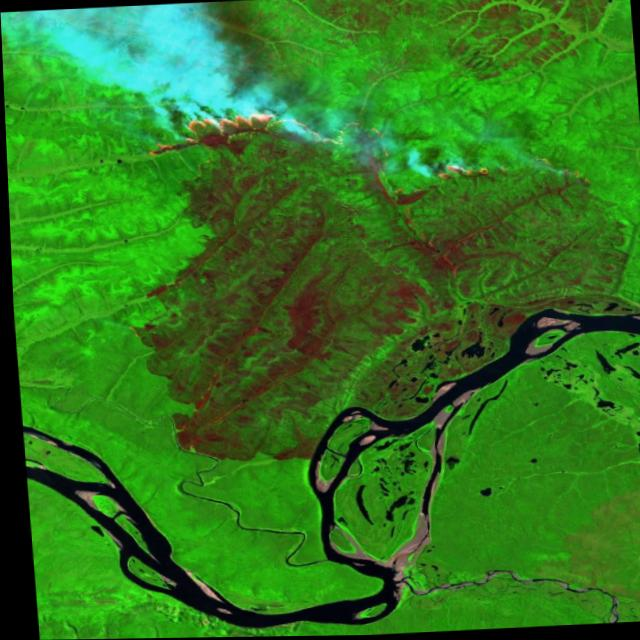fire: (130, 83, 496, 203)
